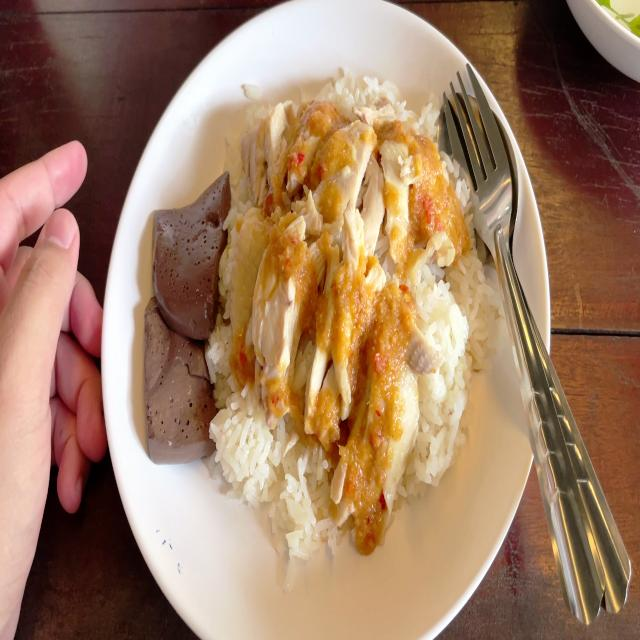boiled_chicken: (238, 112, 426, 455)
boiled_chicken_blood_jelly: (148, 173, 226, 333), (142, 295, 211, 469)
chicken_rice: (129, 68, 497, 570)
